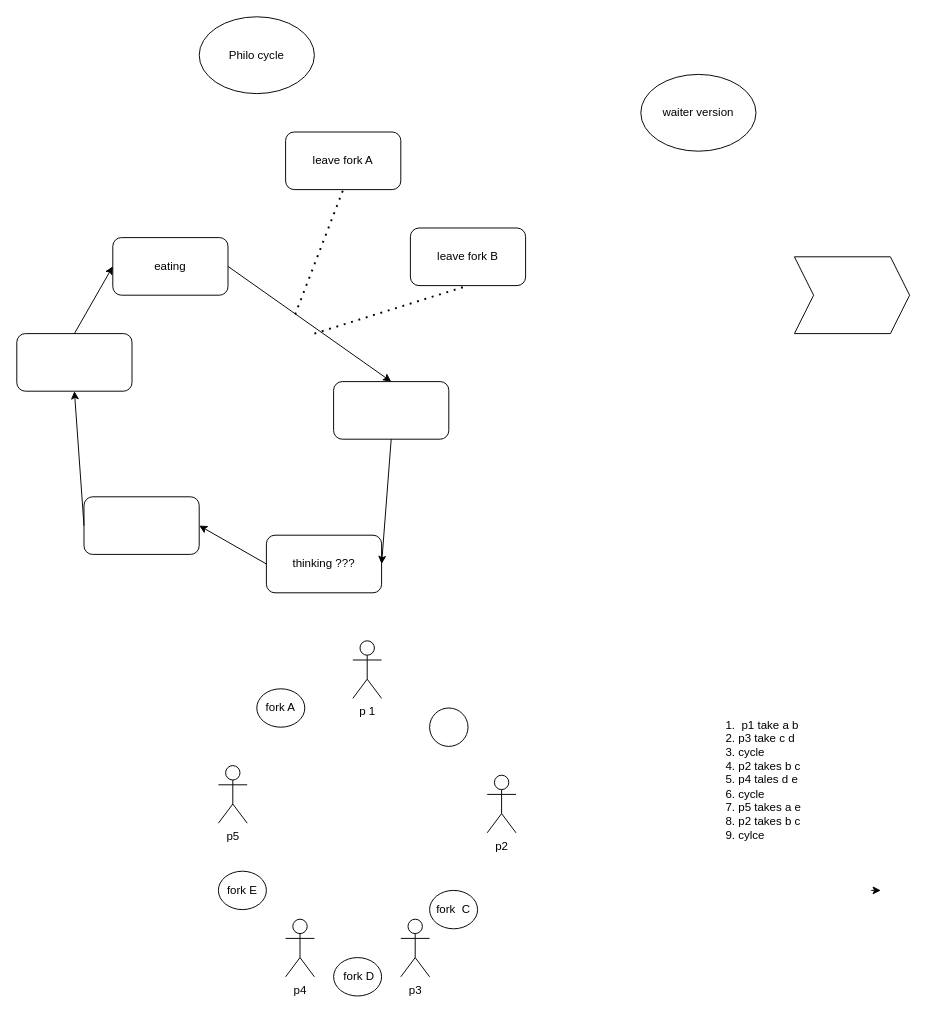
The diagram is 926 pixels wide and 1014 high, and some of its shapes have lost their labels. Here are the shapes that lost their labels. From the top down, the centre of each, then its label:
pixel 851 295: let all even/uneven run
pixel 74 362: take fork A
pixel 391 410: sleeping
pixel 141 525: take fork B
pixel 448 726: fork B
